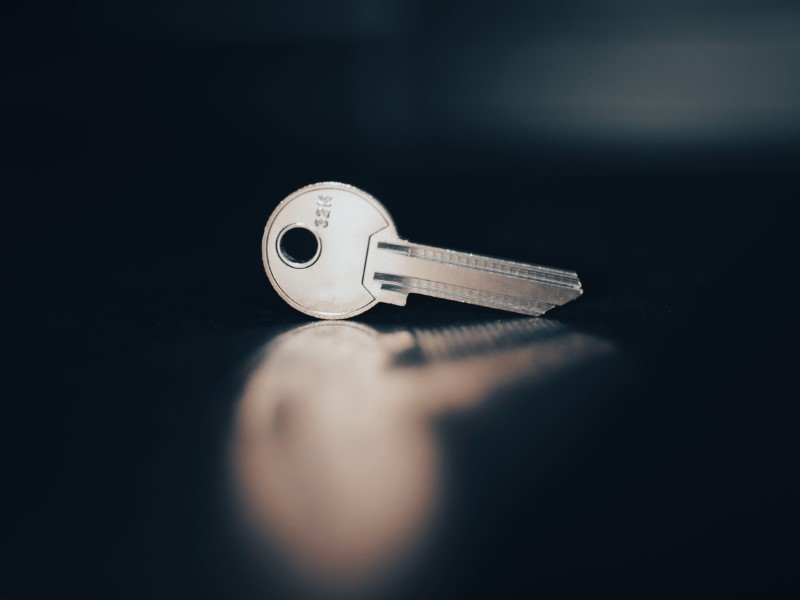key: (260, 178, 590, 327)
